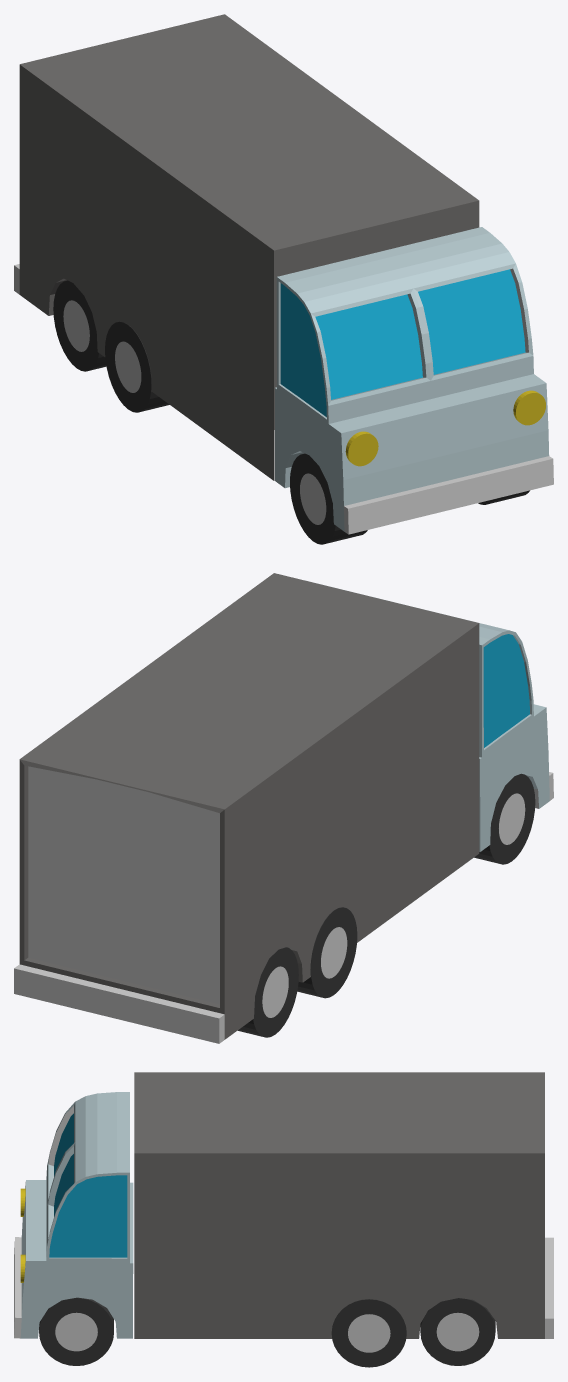
Rendered from box_truck_long.fbx.
3 views of the same model, one above another, from view 1: azimuth 30°, elevation 25°; view 2: azimuth 150°, elevation 25°; view 3: azimuth 270°, elevation 25° (orthographic). The views are drawn at different scales.
Visible parts, largest first — view 1: Vehicle Chassis, Windows, Wheels, Wheels.001, Headlights; view 2: Vehicle Chassis, Rear Shutter, Wheels, Windows, Wheels.001; view 3: Vehicle Chassis, Wheels, Windows, Wheels.001.
Boxes of the visible parts, x1,y1,x2,y2 form: Vehicle Chassis: (14, 14, 553, 534); Windows: (280, 269, 525, 416); Wheels: (53, 280, 529, 544); Wheels.001: (105, 321, 169, 412); Headlights: (345, 390, 545, 466); Vehicle Chassis: (14, 573, 553, 1043); Rear Shutter: (28, 766, 219, 1004); Wheels: (238, 773, 535, 1037); Windows: (483, 634, 529, 747); Wheels.001: (297, 907, 357, 998); Vehicle Chassis: (14, 1072, 553, 1338); Wheels: (39, 1297, 495, 1365); Windows: (49, 1113, 127, 1257); Wheels.001: (331, 1299, 406, 1367).
Size of the model in its own units: 603 by 741 by 1695.
